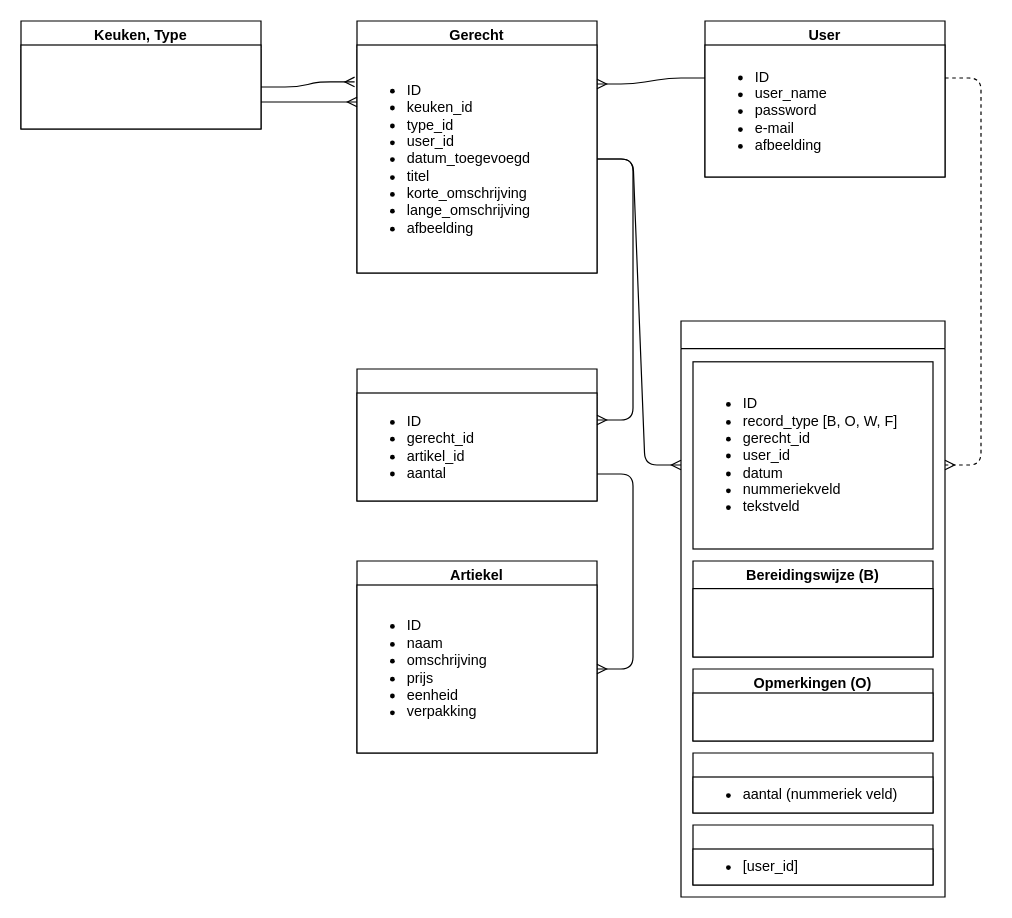
The diagram is 1012 pixels wide and 918 high, and some of its shapes have lost their labels. Each missing label, with the box of its shape:
[user_id] opmerking (tekstveld): (692, 692, 933, 741)
Favoriet (F): (692, 824, 933, 885)
Gerecht info: (680, 320, 945, 897)
ID record_type[K, T] omschrijving: (20, 44, 261, 129)
Ingredient: (356, 368, 597, 501)
stap (nummeriekveld) bereiding (tekstveld): (692, 587, 933, 657)
Waardering (W): (692, 752, 933, 813)
